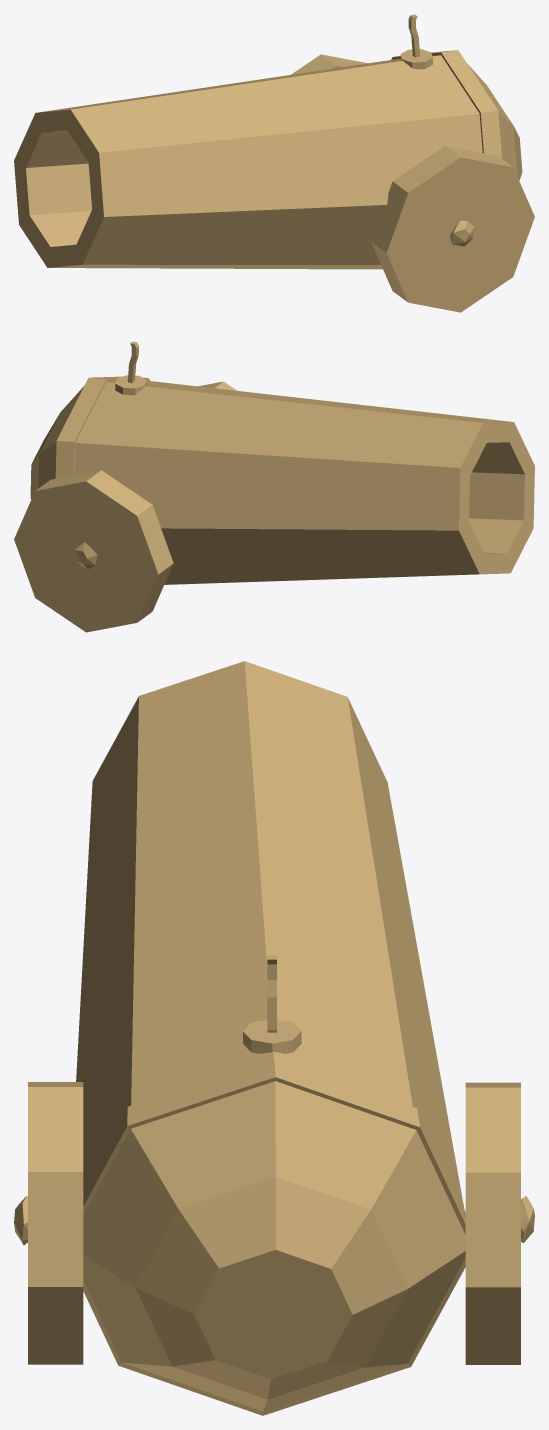
The model's file is _cannon.fbx.
3 views of the same model, one above another, from view 1: azimuth 30°, elevation 25°; view 2: azimuth 150°, elevation 25°; view 3: azimuth 270°, elevation 25° (orthographic). The views are drawn at different scales.
Visible parts, largest first — view 1: Cylinder.001, Cylinder.002, Cylinder.003, Cylinder.004, Icosphere; view 2: Cylinder.001, Cylinder.003, Cylinder.004, Icosphere.001; view 3: Cylinder.001, Cylinder.002, Cylinder.003, Cylinder.004.
Boxes of the visible parts, x1=… form: Cylinder.001: x1=14, y1=50, x2=522, y2=269; Cylinder.002: x1=371, y1=146, x2=534, y2=312; Cylinder.003: x1=291, y1=54, x2=367, y2=74; Cylinder.004: x1=400, y1=49, x2=432, y2=69; Icosphere: x1=450, y1=220, x2=474, y2=246; Cylinder.001: x1=30, y1=376, x2=534, y2=584; Cylinder.003: x1=14, y1=470, x2=173, y2=632; Cylinder.004: x1=115, y1=375, x2=146, y2=395; Icosphere.001: x1=74, y1=542, x2=97, y2=569; Cylinder.001: x1=76, y1=661, x2=465, y2=1415; Cylinder.002: x1=28, y1=1082, x2=83, y2=1364; Cylinder.003: x1=465, y1=1082, x2=520, y2=1364; Cylinder.004: x1=243, y1=1019, x2=301, y2=1053.
Bounding box in the file's own units: 642 × 336 × 353.
